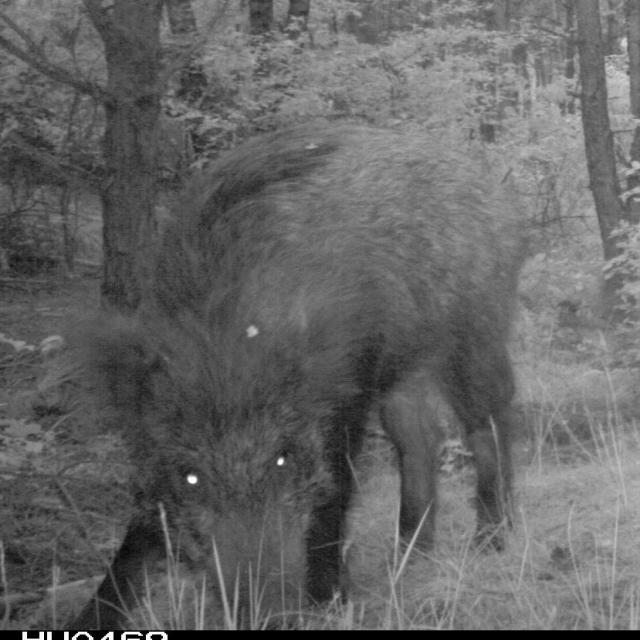pig: (41, 58, 616, 584)
